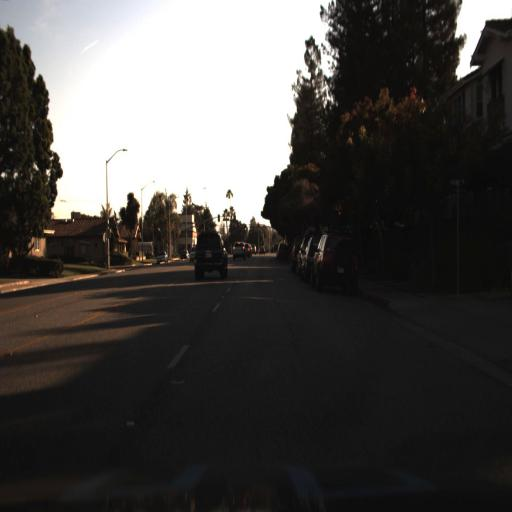car: (311, 231, 354, 287), (191, 230, 228, 284), (302, 234, 316, 282), (230, 236, 248, 264)
